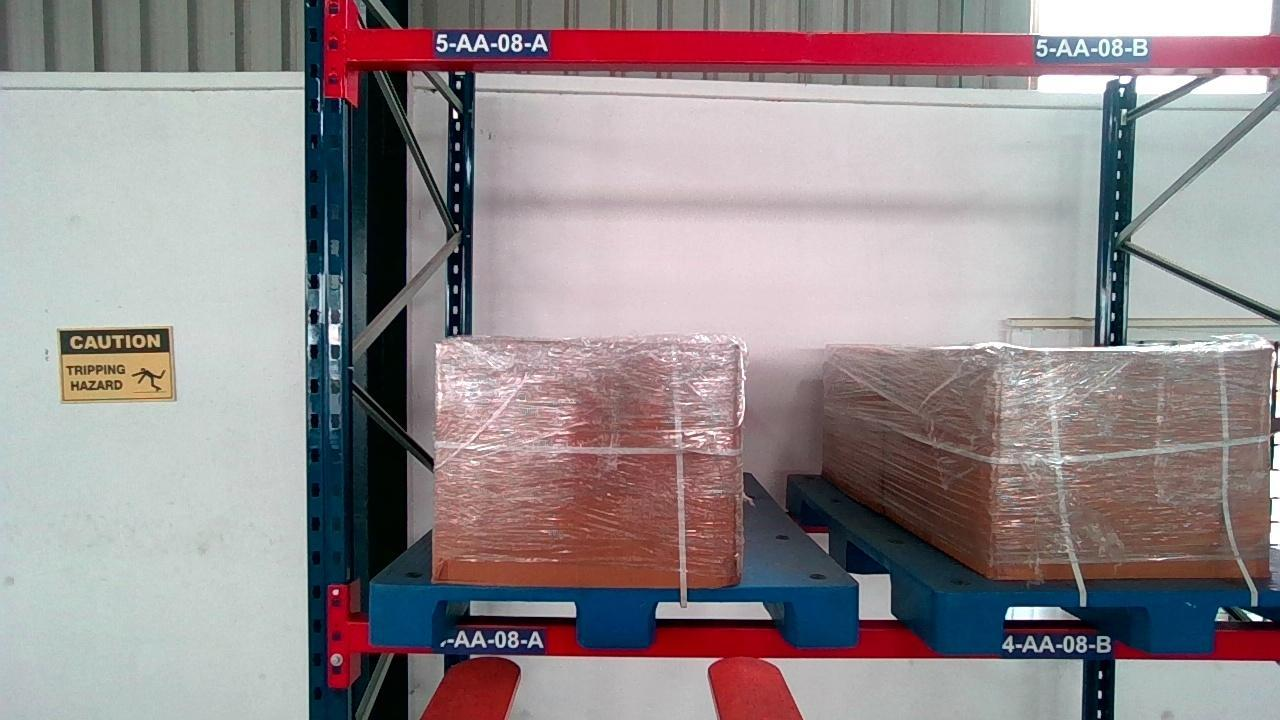h_rack: (347, 618, 1275, 659), (354, 27, 1275, 66)
small_pallet: (371, 581, 856, 647), (944, 589, 1274, 651)
